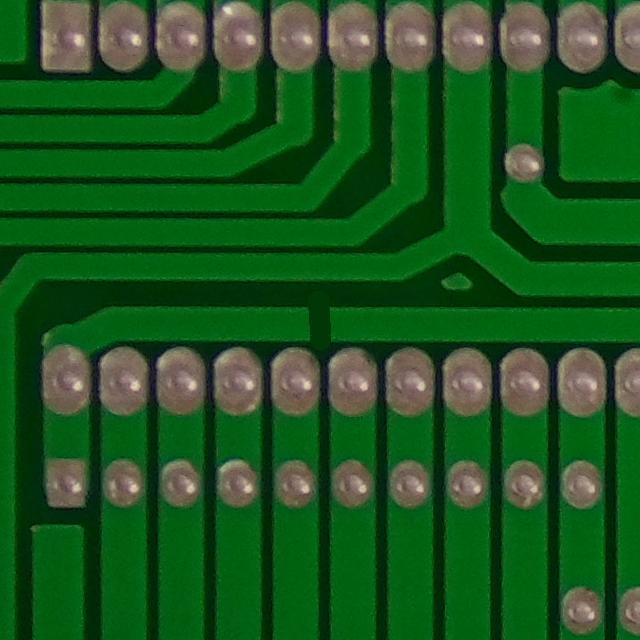open_circuit: (290, 296, 350, 345)
